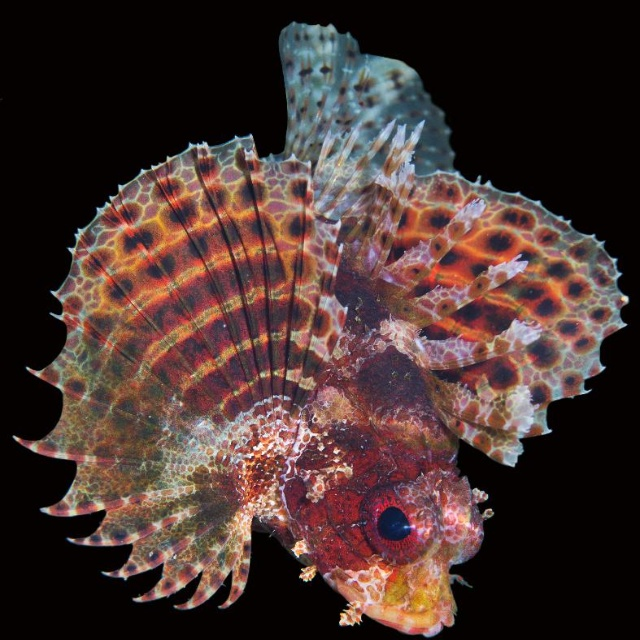Fish: (0, 24, 614, 615)
